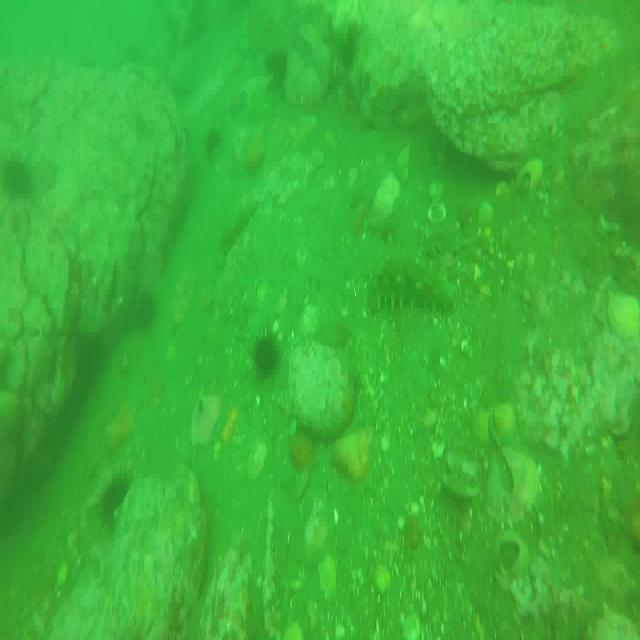echinus: (2, 154, 36, 204), (251, 333, 279, 374), (101, 475, 129, 515), (131, 285, 152, 328), (340, 20, 357, 62), (270, 50, 290, 85), (208, 126, 226, 157)
holothurian: (368, 264, 456, 324), (219, 198, 258, 260)
